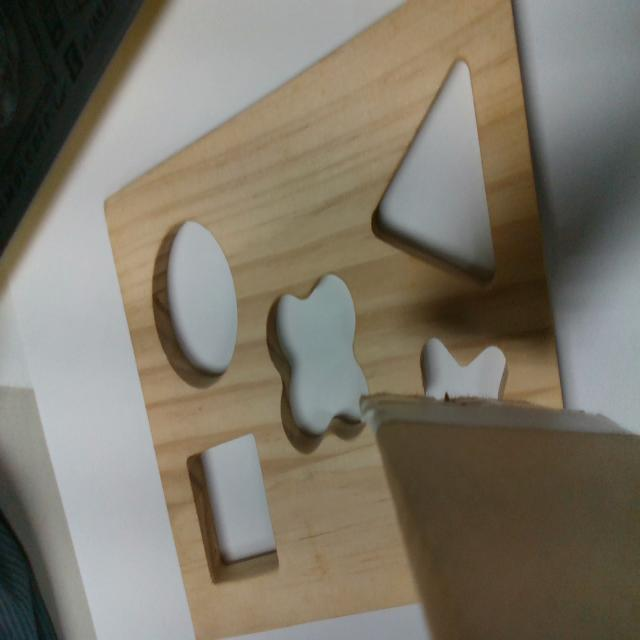circle: (153, 222, 239, 389)
flower: (267, 273, 369, 458)
square: (186, 433, 280, 587)
star: (423, 338, 508, 399)
triangle: (371, 57, 499, 290)
